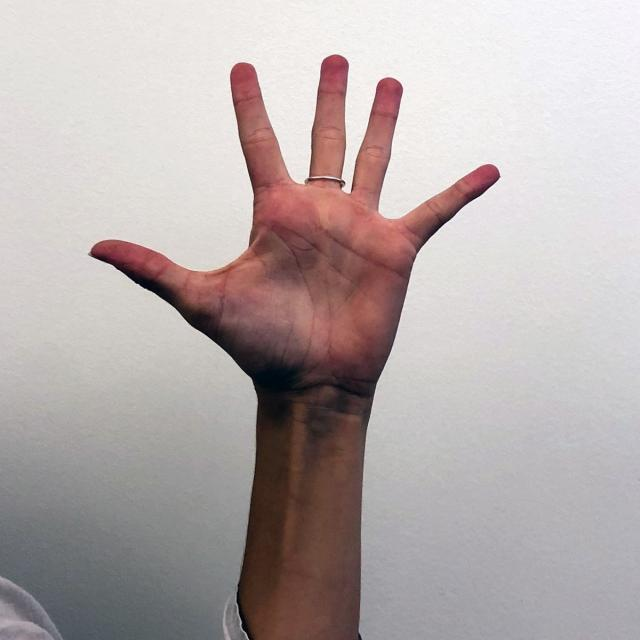no-gloves: (87, 52, 501, 387)
